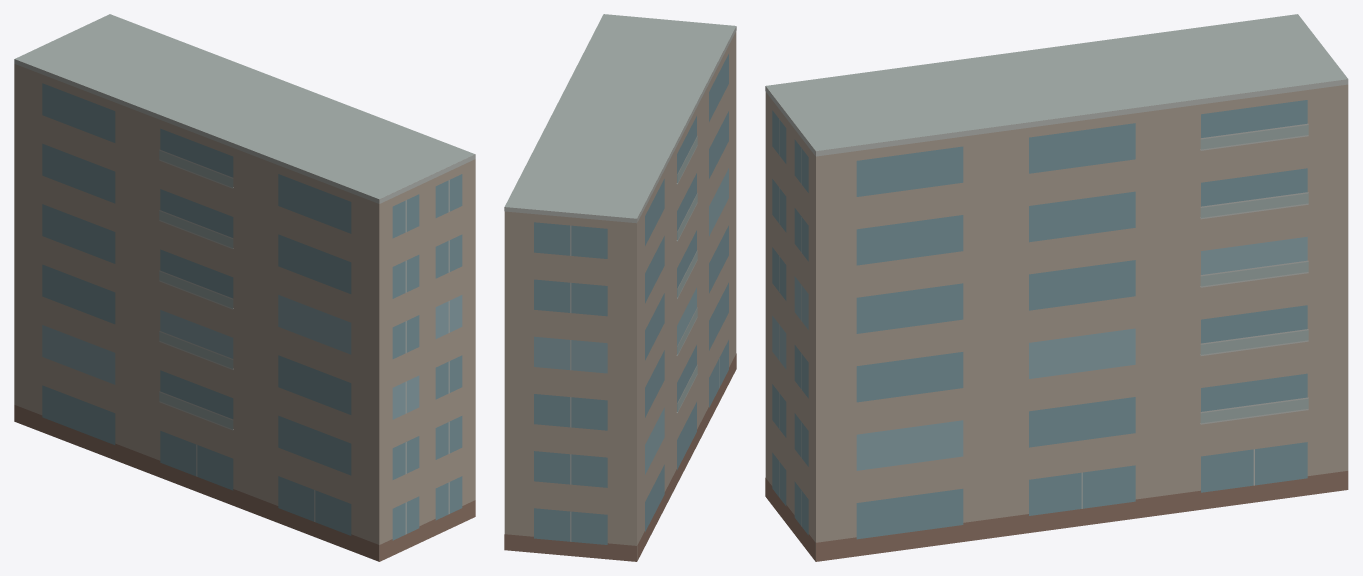
The model's file is survey-upis-32619035.glb.
The picture shows the model from 3 angles, left to right: view 1: azimuth 30°, elevation 25°; view 2: azimuth 150°, elevation 25°; view 3: azimuth 270°, elevation 25°; orthographic projection. The views are drawn at different scales.
Visible parts, largest first — view 1: survey-upis-32619035.tmp; view 2: survey-upis-32619035.tmp; view 3: survey-upis-32619035.tmp.
Part boxes in pixels (left/top/right/bottom): survey-upis-32619035.tmp: left=14, top=14, right=475, bottom=561; survey-upis-32619035.tmp: left=504, top=14, right=736, bottom=561; survey-upis-32619035.tmp: left=765, top=14, right=1348, bottom=561.
Size of the model in its own units: 13.41 by 18.7 by 24.07.
